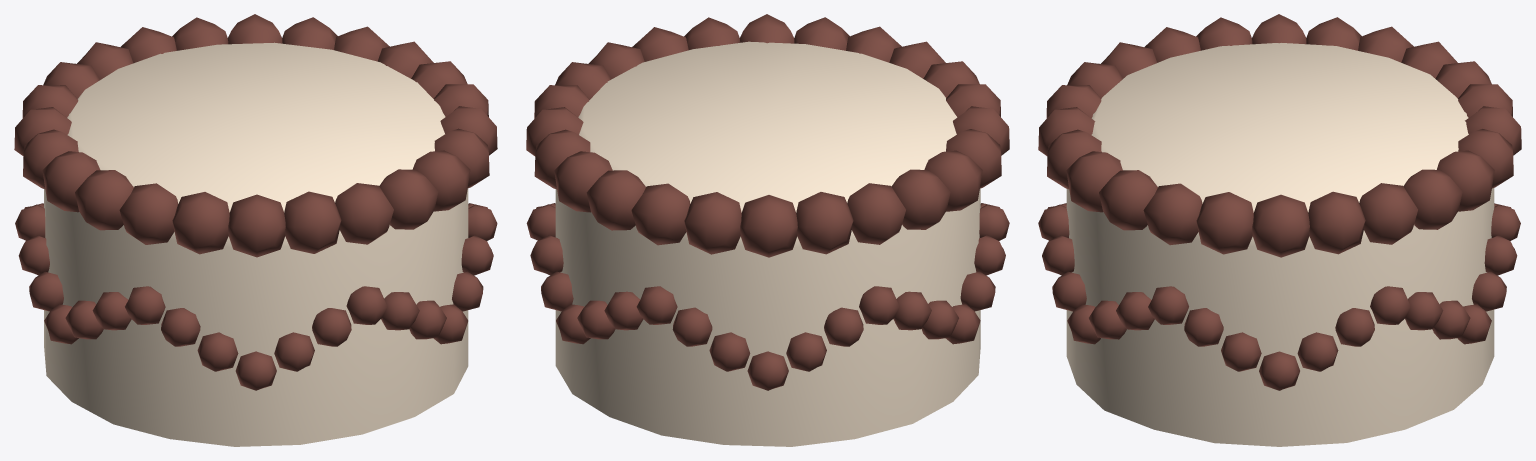
File: SM_mod_damage.fbx
3 renders of one model, left to right at view 1: azimuth 30°, elevation 25°; view 2: azimuth 150°, elevation 25°; view 3: azimuth 270°, elevation 25°, orthographic.
Parts seen in each view (by area): view 1: polySurface35; view 2: polySurface35; view 3: polySurface35.
Part boxes in pixels (x1,y1,x2,y2): polySurface35: [14, 14, 497, 446]; polySurface35: [526, 14, 1009, 446]; polySurface35: [1038, 14, 1521, 446].
Bounding box in the file's own units: 211 × 119 × 211.
1 material, 1 textured.
